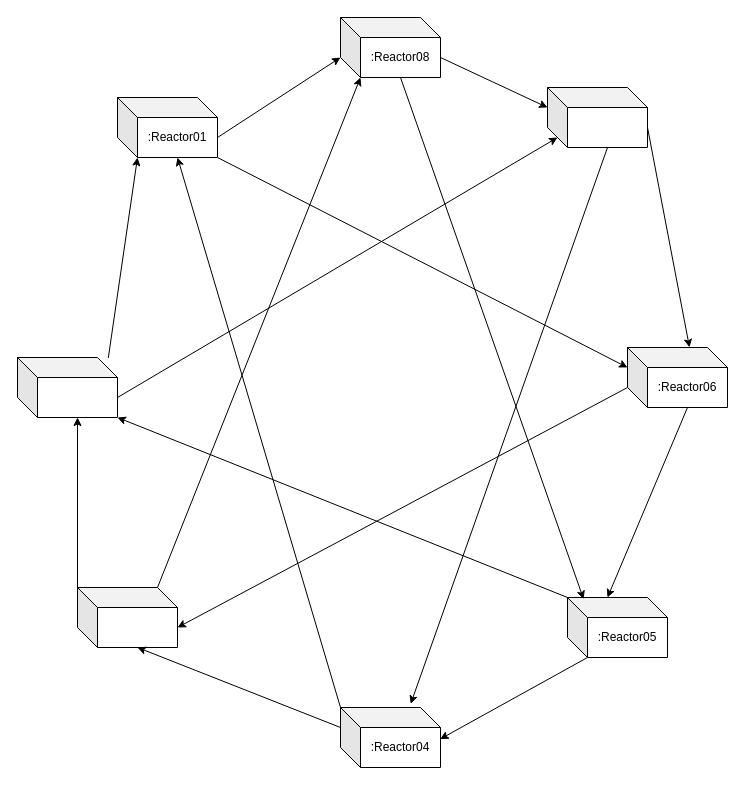
Some shapes in this 745 by 785 pixel diagram are drawn without their labels. The shapes that lost their labels are listed below. From the top down, each one's centre as x and y in pixels, then its label:
At (597,117): ":Reactor07".
At (67,387): ":Reactor02".
At (127,617): ":Reactor03".
